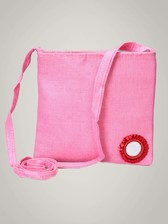bag: (5, 40, 161, 183)
